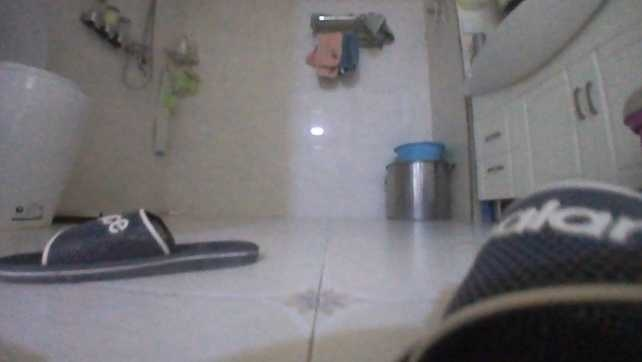slipper: (0, 207, 262, 283)
toilet: (2, 12, 90, 230)
